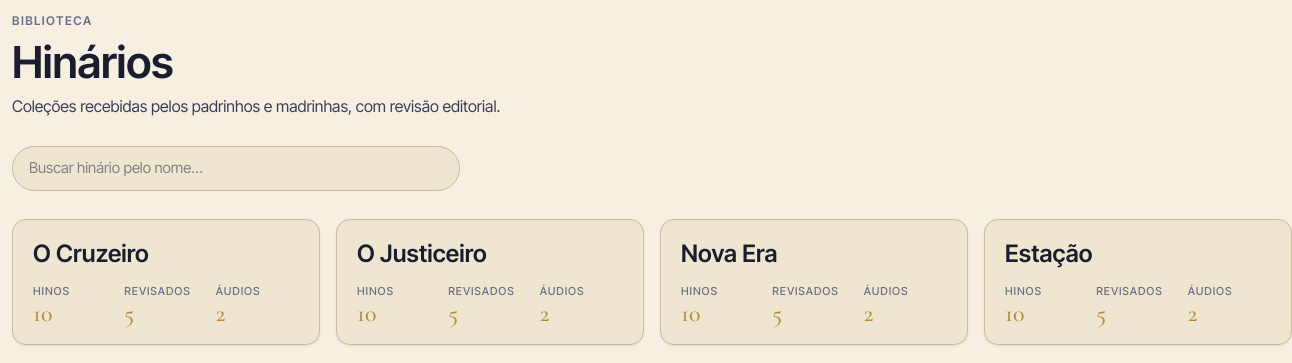
Test: +page.svelte (lista de hinários) › filtro é accent-insensitive ('estacao' encontra 'Estação')
This screenshot has width=1292, height=363.
Type "estacao" into the search field with test id "hymnbook-search". click: (236,169)
box: top-left (12, 146), bottom-right (460, 191)
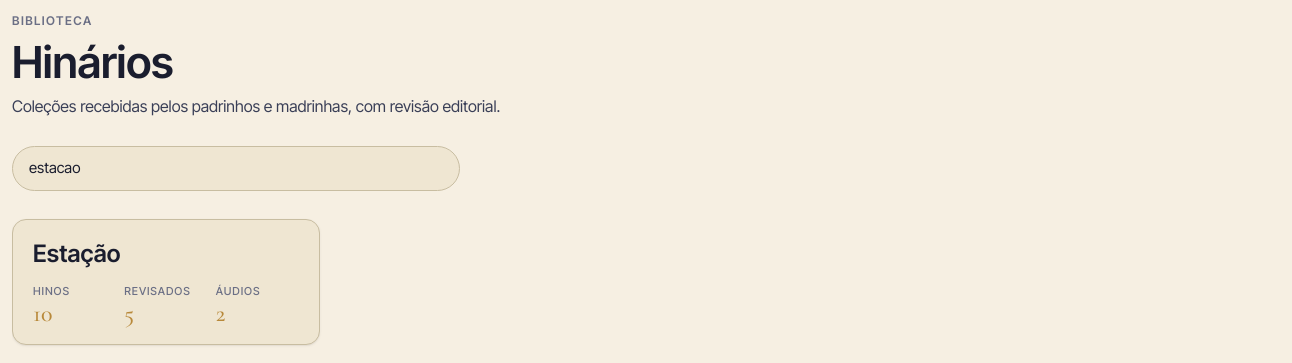
Expected: the link with test id "hymnbook-card" shows "Estação", top-left (12, 219), bottom-right (320, 345)
Now the number of links with test id "hymnbook-card" is 1, box top-left (12, 219), bottom-right (320, 345)
